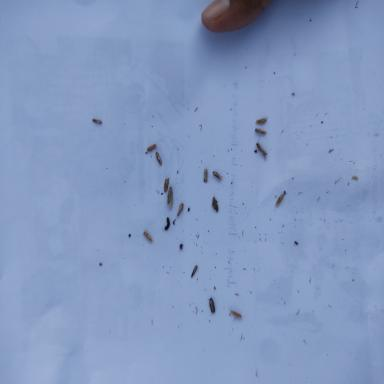pbw: (142, 228, 153, 242), (230, 310, 243, 321), (212, 171, 226, 181), (208, 297, 216, 313), (255, 116, 268, 125), (275, 194, 284, 207), (254, 128, 270, 135), (211, 196, 218, 212), (176, 202, 184, 216), (191, 264, 198, 278), (146, 144, 158, 152), (167, 186, 172, 204), (164, 178, 170, 192), (202, 168, 208, 182), (156, 152, 162, 166), (169, 191, 173, 208), (92, 119, 103, 124)
